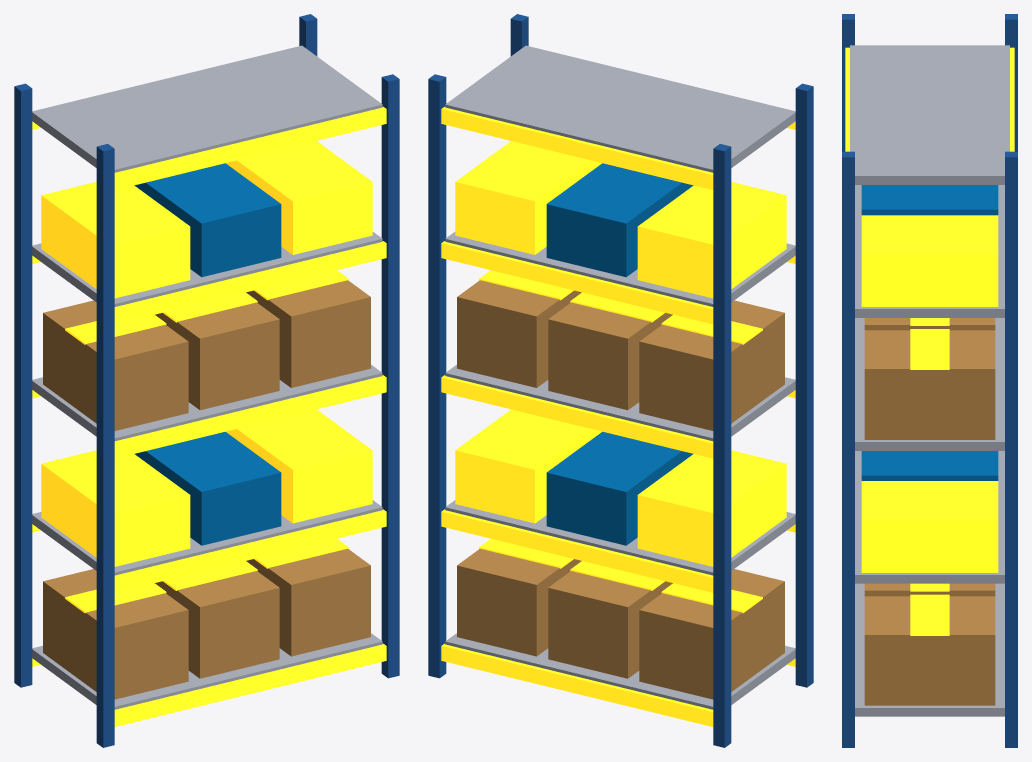
Rendered from lgx-005.glb.
3 views of the same model, side by side, from view 1: azimuth 30°, elevation 25°; view 2: azimuth 150°, elevation 25°; view 3: azimuth 270°, elevation 25° (orthographic).
Visible parts, largest first — view 1: sign_yellow, pastry, steel, airline_blue, safety_blue; view 2: sign_yellow, pastry, steel, airline_blue, safety_blue; view 3: steel, sign_yellow, pastry, airline_blue, safety_blue.
Part boxes in pixels (left/top/right/bottom): sign_yellow: left=32, top=106, right=386, bottom=726; pastry: left=43, top=280, right=370, bottom=699; steel: left=32, top=45, right=382, bottom=709; airline_blue: left=14, top=14, right=399, bottom=747; safety_blue: left=134, top=163, right=281, bottom=545; sign_yellow: left=441, top=106, right=795, bottom=726; pastry: left=457, top=280, right=784, bottom=699; steel: left=445, top=45, right=795, bottom=709; airline_blue: left=428, top=14, right=813, bottom=747; safety_blue: left=546, top=163, right=693, bottom=545; steel: left=850, top=45, right=1009, bottom=716; sign_yellow: left=845, top=47, right=1014, bottom=635; pastry: left=864, top=318, right=995, bottom=705; airline_blue: left=842, top=14, right=1017, bottom=747; safety_blue: left=861, top=185, right=998, bottom=480.
Bounding box in the file's own units: 1.04 × 2 × 0.54.
